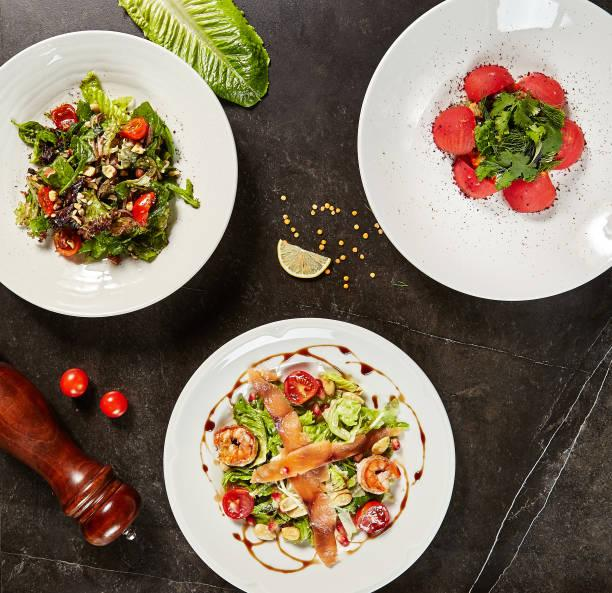Braised Crucian Carp: (161, 317, 454, 588), (359, 2, 612, 300), (1, 30, 237, 314)
